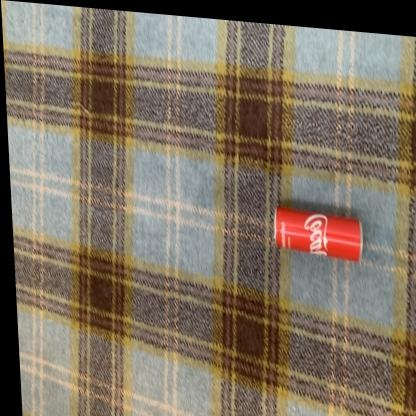trash: (275, 208, 361, 261)
